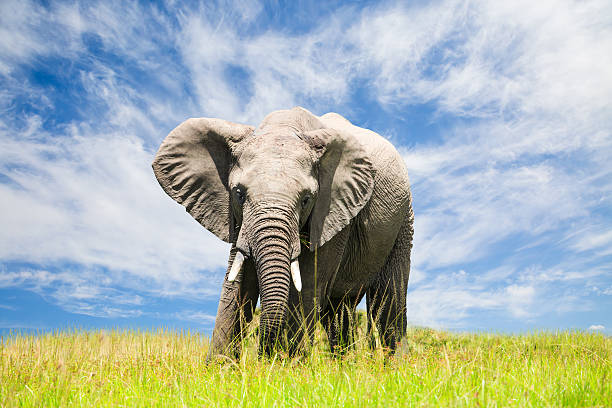africanelephant: (210, 129, 330, 293)
